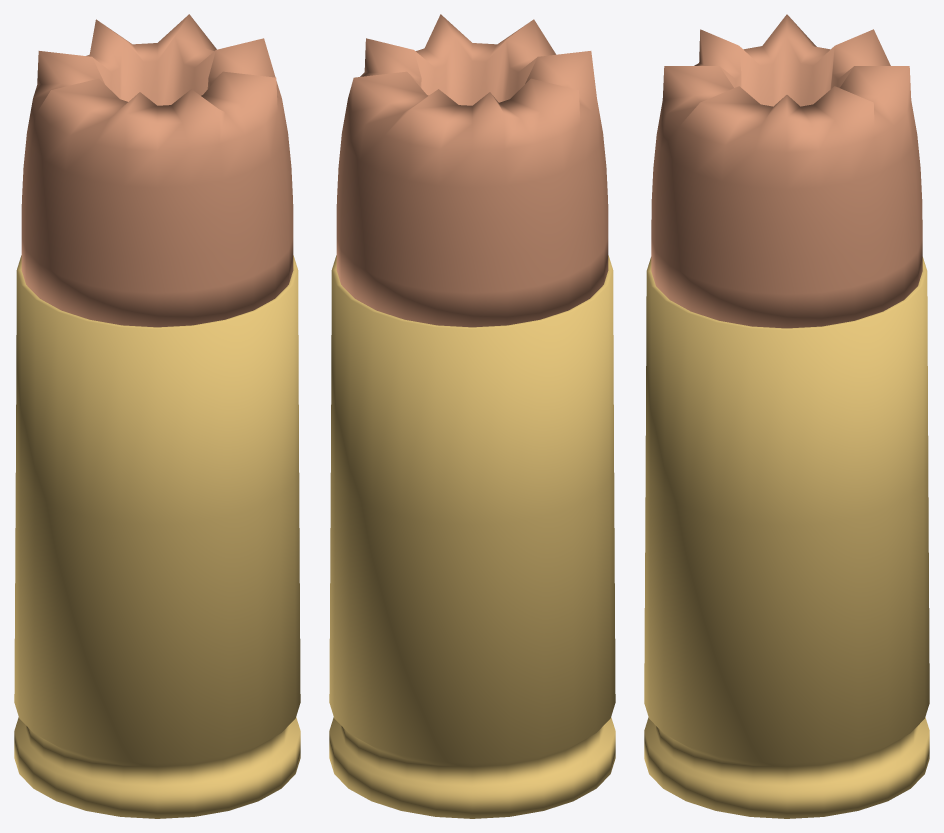
The model's file is 45acp_fl.glb.
The picture shows the model from 3 angles, left to right: view 1: azimuth 30°, elevation 25°; view 2: azimuth 150°, elevation 25°; view 3: azimuth 270°, elevation 25°; orthographic projection.
Parts seen in each view (by area): view 1: vaina, bala_flor; view 2: vaina, bala_flor; view 3: vaina, bala_flor.
Part boxes in pixels (<box>): vaina: <box>14,255,300,818</box>; bala_flor: <box>21,14,293,327</box>; vaina: <box>329,255,615,818</box>; bala_flor: <box>336,14,608,327</box>; vaina: <box>644,257,929,818</box>; bala_flor: <box>651,14,922,328</box>.
Size of the model in its own units: 0.0121 by 0.0324 by 0.0121.
